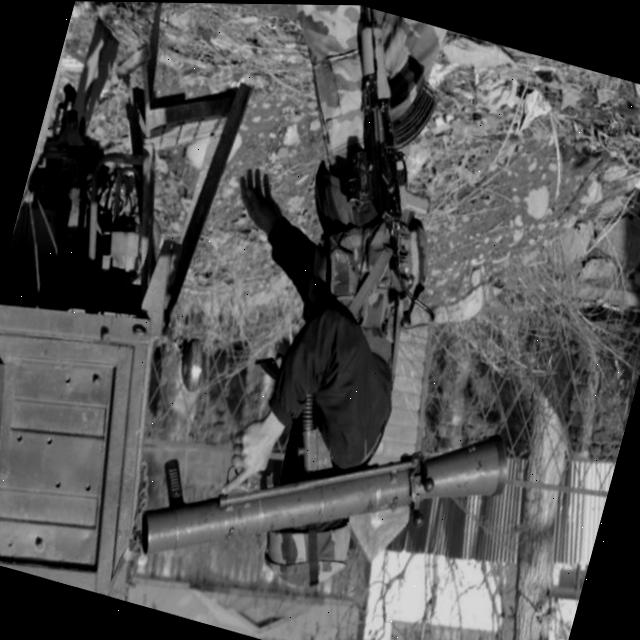rocket: (103, 330, 538, 640)
